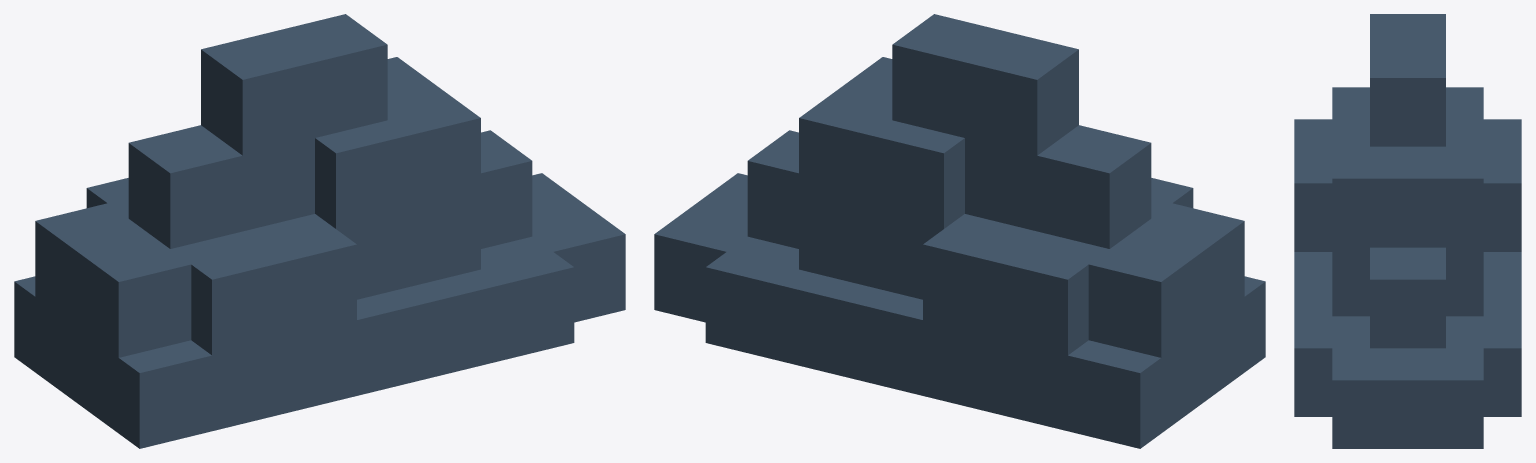
File: stone-02.glb
3 views of the same model, side by side, from view 1: azimuth 30°, elevation 25°; view 2: azimuth 150°, elevation 25°; view 3: azimuth 270°, elevation 25° (orthographic). The views are drawn at different scales.
Visible parts, largest first — view 1: generated(Clone); view 2: generated(Clone); view 3: generated(Clone).
Part boxes in pixels (box(x1,y1,x2,y2)): generated(Clone): box(14, 14, 625, 448); generated(Clone): box(654, 14, 1265, 448); generated(Clone): box(1294, 14, 1521, 448).
Size of the model in its own units: 7 by 4 by 3.
1 material, 1 textured.
